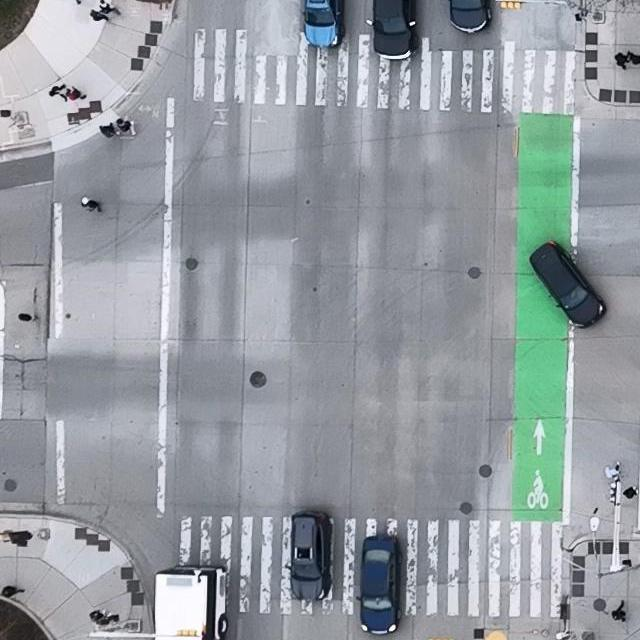car: (530, 238, 608, 328), (153, 567, 228, 640), (356, 536, 401, 635), (285, 510, 331, 601), (365, 0, 420, 60), (302, 0, 346, 47), (449, 0, 492, 34)
